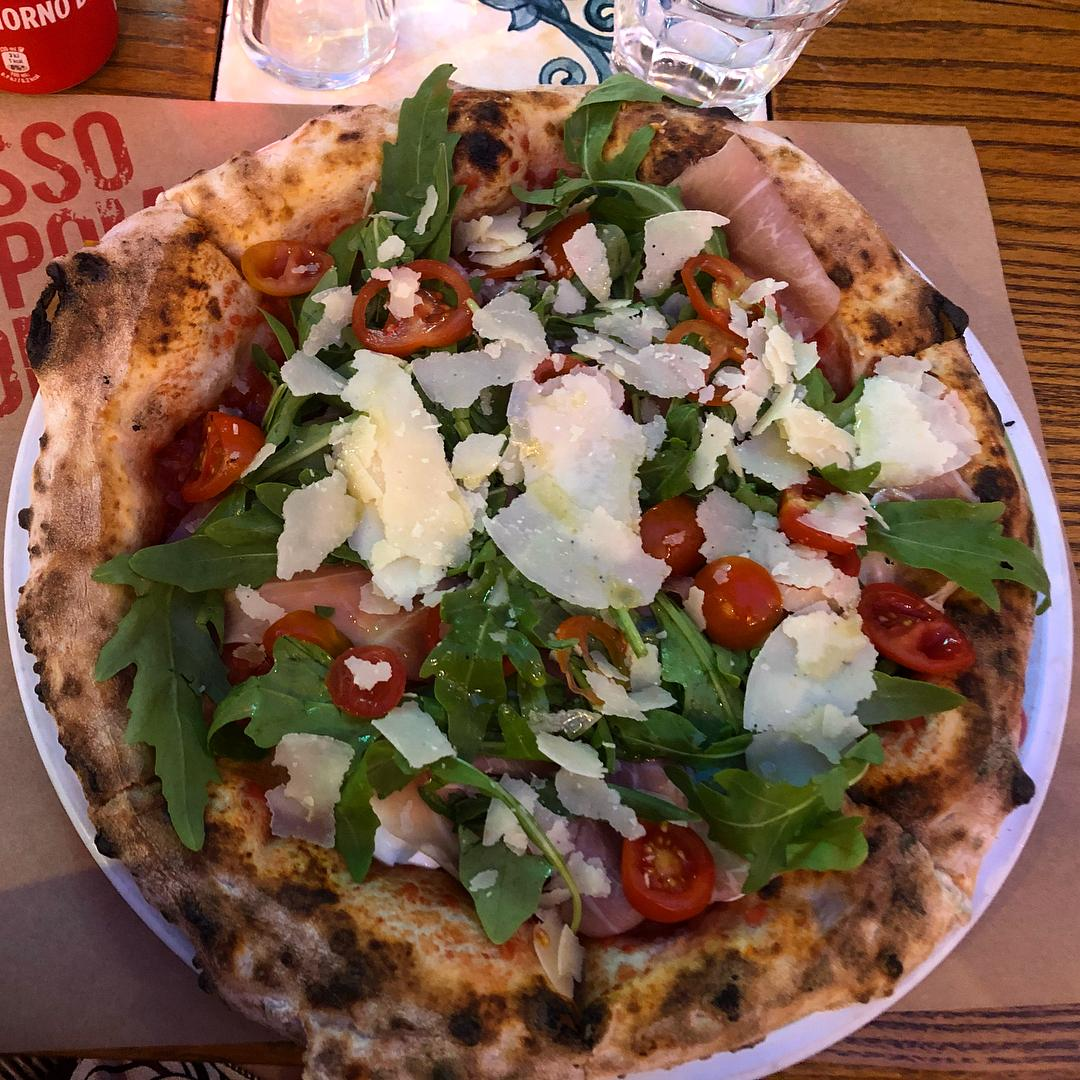Arugula: (500, 63, 725, 323), (101, 488, 235, 857), (398, 528, 577, 776), (667, 712, 869, 895), (325, 61, 487, 263), (598, 586, 758, 784), (855, 469, 1060, 617), (425, 744, 552, 951), (117, 488, 310, 620), (199, 621, 342, 756), (222, 336, 338, 493), (329, 707, 408, 892), (846, 642, 974, 738), (633, 379, 700, 495), (693, 434, 766, 509), (819, 459, 888, 494)
Cheese: (475, 347, 674, 617), (288, 330, 477, 606), (729, 591, 884, 785), (838, 344, 999, 505), (690, 326, 844, 494), (409, 285, 558, 412), (589, 297, 719, 400)
Pizza: (0, 70, 1057, 1080)
Tomatoes: (344, 252, 488, 363), (859, 569, 977, 695), (167, 404, 274, 506), (620, 816, 716, 929), (769, 463, 874, 563), (238, 598, 361, 673), (667, 249, 762, 345), (228, 230, 348, 304), (693, 557, 788, 644), (317, 639, 405, 724), (631, 498, 718, 571), (542, 205, 600, 286)
